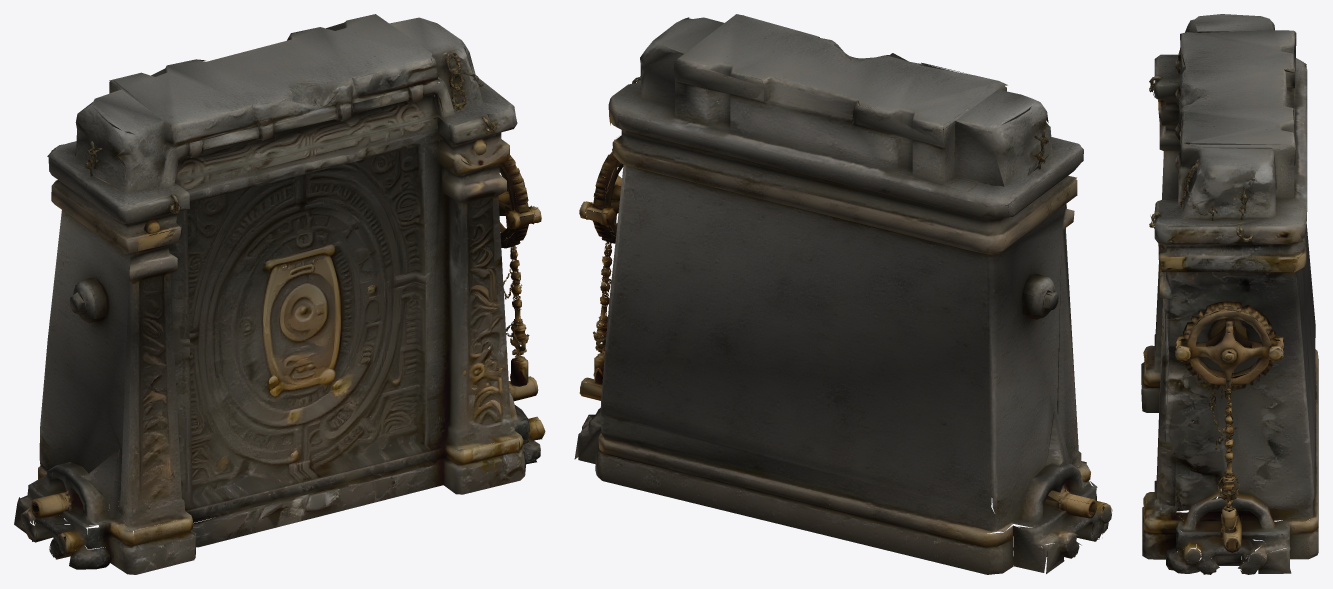
File: ch6_sluice_gate_LOD1.glb
The picture shows the model from 3 angles, left to right: view 1: azimuth 30°, elevation 25°; view 2: azimuth 150°, elevation 25°; view 3: azimuth 270°, elevation 25°; orthographic projection. The views are drawn at different scales.
Parts seen in each view (by area): view 1: tripo_node_174d5530-f8be-48f6-bdd4-5b4818296782; view 2: tripo_node_174d5530-f8be-48f6-bdd4-5b4818296782; view 3: tripo_node_174d5530-f8be-48f6-bdd4-5b4818296782.
Boxes of the visible parts, bbox=[...] form: tripo_node_174d5530-f8be-48f6-bdd4-5b4818296782: bbox=[14, 14, 545, 574]; tripo_node_174d5530-f8be-48f6-bdd4-5b4818296782: bbox=[574, 14, 1112, 574]; tripo_node_174d5530-f8be-48f6-bdd4-5b4818296782: bbox=[1141, 14, 1318, 574].
Size of the model in its own units: 0.9981 by 0.811 by 0.3379.
1 material, 1 textured.
